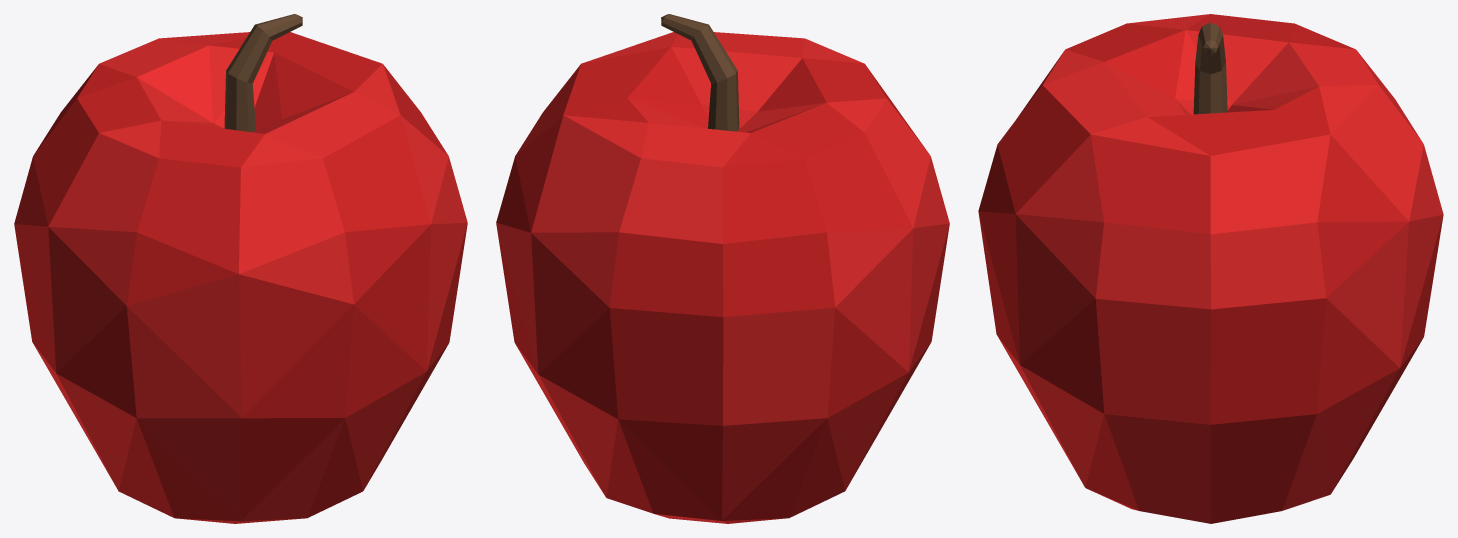
The model's file is mesh_apple.fbx.
3 views of the same model, side by side, from view 1: azimuth 30°, elevation 25°; view 2: azimuth 150°, elevation 25°; view 3: azimuth 270°, elevation 25° (orthographic). The views are drawn at different scales.
Visible parts, largest first — view 1: mesh_apple; view 2: mesh_apple; view 3: mesh_apple.
Part boxes in pixels (x1,y1,x2,y2): mesh_apple: (14,14,467,523); mesh_apple: (496,14,949,523); mesh_apple: (978,14,1443,523).
Size of the model in its own units: 0.2165 by 0.2427 by 0.2194.
